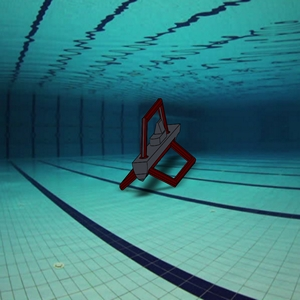submarine: (101, 83, 202, 206)
